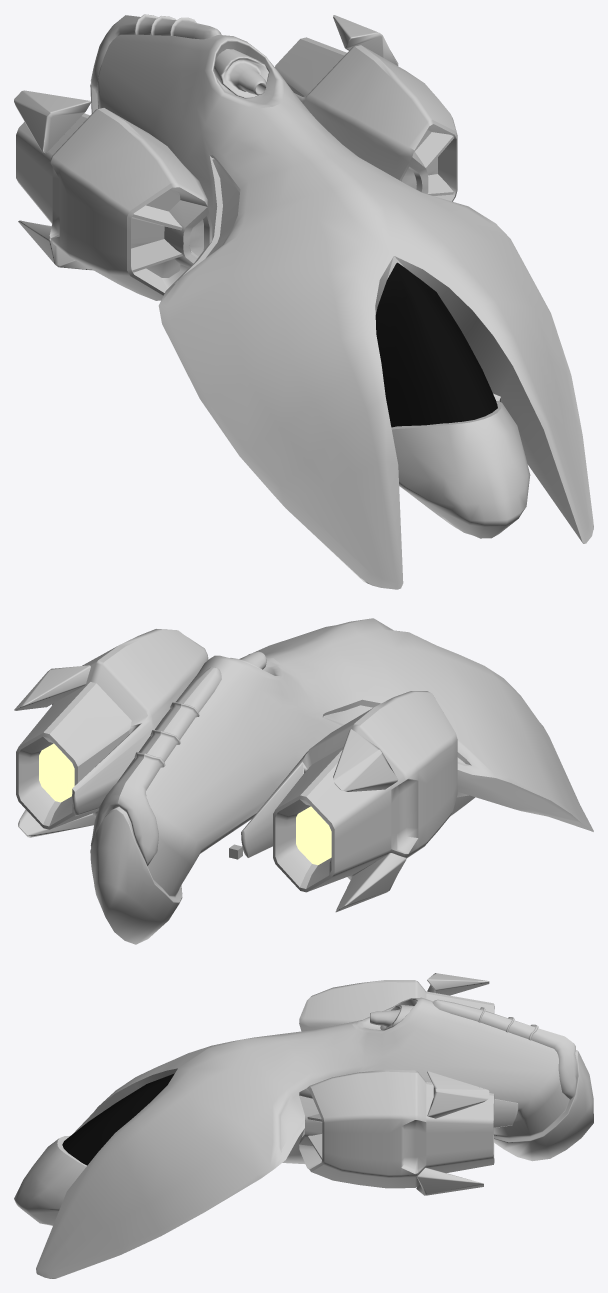
File: evmort00.fbx
3 views of the same model, one above another, from view 1: azimuth 30°, elevation 25°; view 2: azimuth 150°, elevation 25°; view 3: azimuth 270°, elevation 25° (orthographic). The views are drawn at different scales.
Parts seen in each view (by area): view 1: mainbody, eng_r, eng_l, cockpit, flip3, low_merged_pipe, recoil_01, vents_r, flip1, vents_l, flip4; view 2: mainbody, eng_r, eng_l, low_merged_pipe, flip3, flip4, flip1, flame_2__h, flame_1__h, flip2; view 3: mainbody, eng_l, eng_r, cockpit, low_merged_pipe, flip1, flip2, flip3, recoil_01.
Boxes of the visible parts, <box> form: mainbody: <box>90,34,593,589</box>; eng_r: <box>16,108,212,300</box>; eng_l: <box>275,37,457,201</box>; cockpit: <box>375,262,497,427</box>; flip3: <box>14,90,90,152</box>; low_merged_pipe: <box>90,14,221,93</box>; recoil_01: <box>214,49,269,98</box>; vents_r: <box>131,205,182,272</box>; flip1: <box>333,15,398,65</box>; vents_l: <box>415,132,453,195</box>; flip4: <box>18,220,93,270</box>; mainbody: <box>90,618,593,944</box>; eng_r: <box>241,691,457,892</box>; eng_l: <box>16,629,208,829</box>; low_merged_pipe: <box>90,667,221,865</box>; flip3: <box>333,729,398,791</box>; flip4: <box>335,853,406,912</box>; flip1: <box>14,665,90,710</box>; flame_2__h: <box>296,806,331,864</box>; flame_1__h: <box>39,743,74,802</box>; flip2: <box>18,809,95,837</box>; mainbody: <box>14,997,593,1278</box>; eng_l: <box>299,1069,518,1188</box>; eng_r: <box>299,980,494,1031</box>; cockpit: <box>62,1073,174,1165</box>; low_merged_pipe: <box>432,999,576,1099</box>; flip1: <box>427,1071,489,1118</box>; flip2: <box>416,1167,483,1195</box>; flip3: <box>427,973,489,995</box>; recoil_01: <box>370,1005,413,1030</box>.
Bounding box in the file's own units: 2.76 × 2.47 × 5.35.
